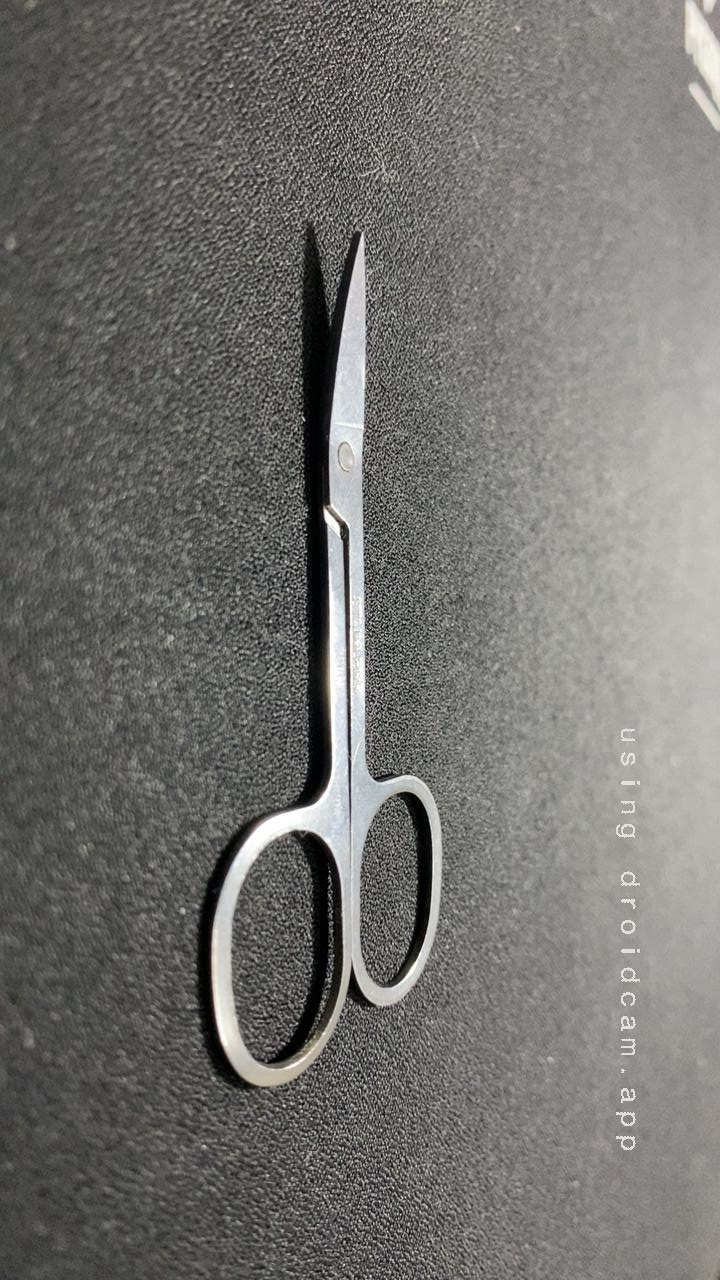scissor: (130, 553, 479, 1092)
